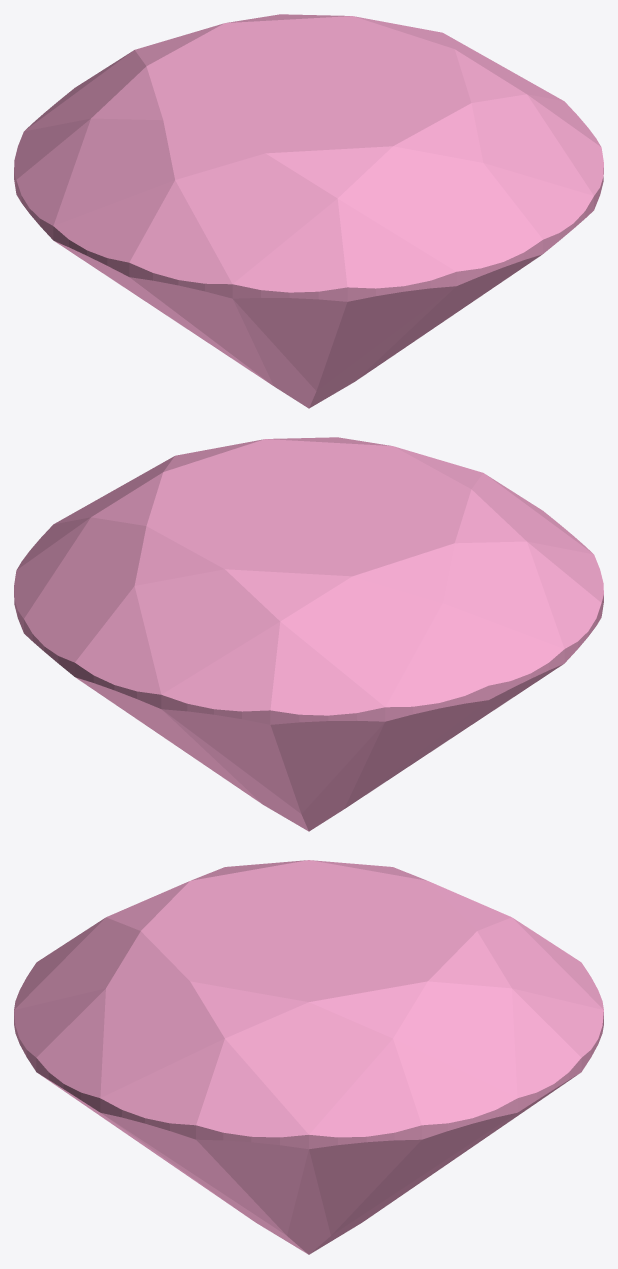
Rendered from rund-pink-medium.glb.
3 views of the same model, one above another, from view 1: azimuth 30°, elevation 25°; view 2: azimuth 150°, elevation 25°; view 3: azimuth 270°, elevation 25° (orthographic).
Parts seen in each view (by area): view 1: Round; view 2: Round; view 3: Round.
Boxes of the visible parts, left/top/right/bottom form: Round: left=14, top=14, right=603, bottom=408; Round: left=14, top=437, right=603, bottom=831; Round: left=14, top=860, right=603, bottom=1254.
Bounding box in the file's own units: 0.03 × 0.0182 × 0.03.
